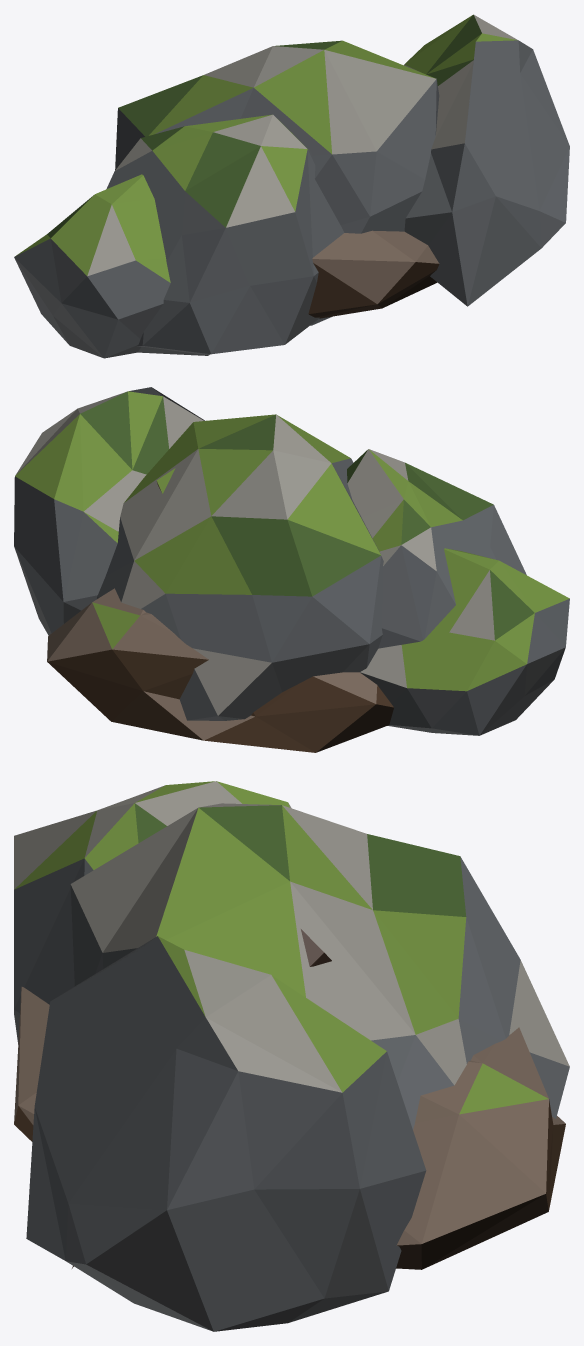
File: SM_Rim_Rock_B.fbx
3 views of the same model, one above another, from view 1: azimuth 30°, elevation 25°; view 2: azimuth 150°, elevation 25°; view 3: azimuth 270°, elevation 25° (orthographic). The views are drawn at different scales.
Visible parts, largest first — view 1: SM_Rim_Rock_B; view 2: SM_Rim_Rock_B; view 3: SM_Rim_Rock_B.
Part boxes in pixels (bbox=[...]): SM_Rim_Rock_B: bbox=[14, 14, 569, 358]; SM_Rim_Rock_B: bbox=[14, 387, 569, 752]; SM_Rim_Rock_B: bbox=[14, 781, 569, 1331].
Bounding box in the file's own units: 4.91 × 2.24 × 2.98.
